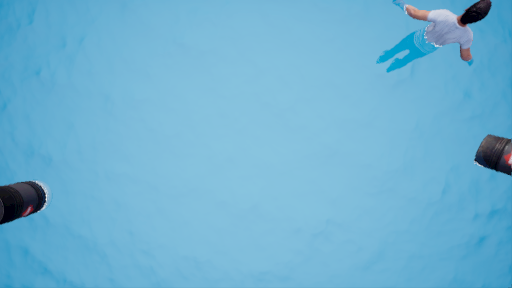person: (379, 2, 490, 77)
